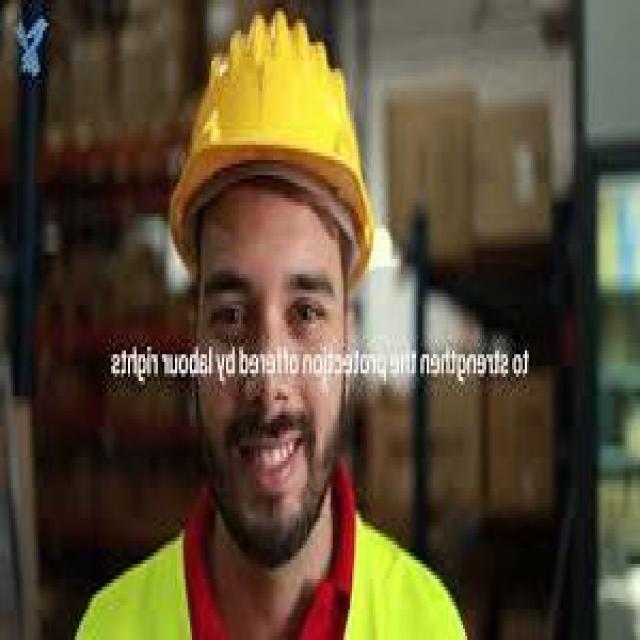Reflective-Jacket: (75, 525, 478, 640)
Safety-Helmet: (162, 11, 382, 286)
